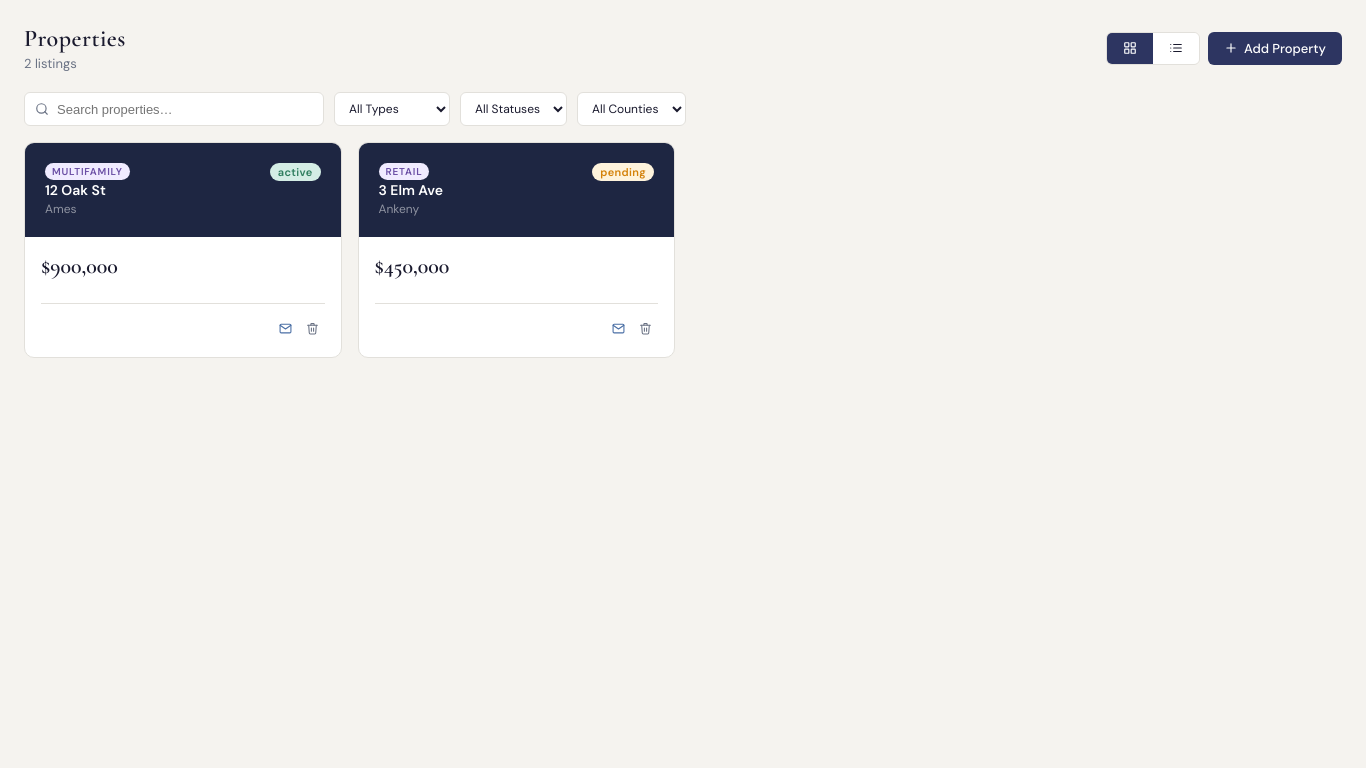
it: PropertiesPage › reports a failed delete instead of claiming success, and keeps the row
This screenshot has width=1366, height=768.
Click the button named "Delete 12 Oak St": (312, 328) [300, 316, 324, 341]
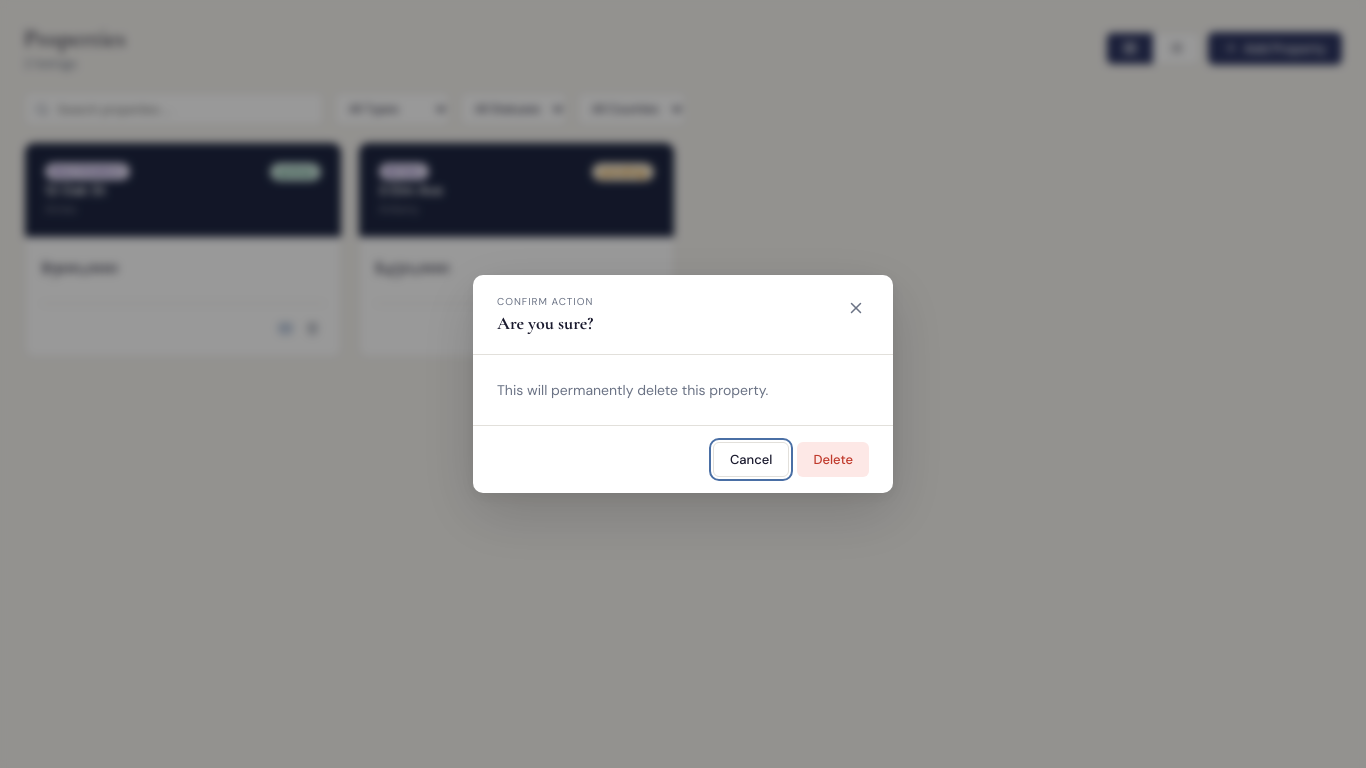
Expected: the dialog is shown, [473, 275, 893, 493]
Click the button "Delete": (833, 460) [797, 442, 869, 477]
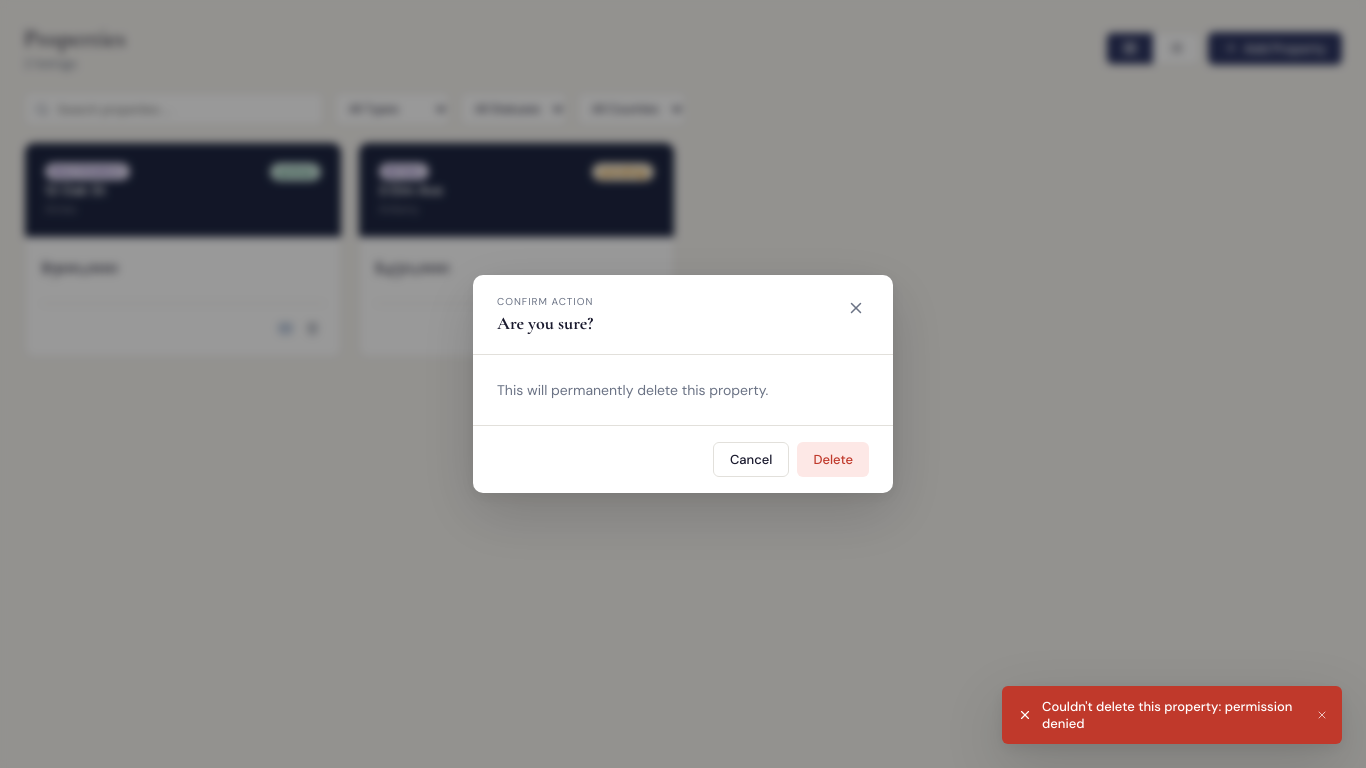
Expected: the button "12 Oak St" is shown, [45, 181, 106, 199]
Expected: the message reads "Couldn't delete this property: permission denied", [1042, 698, 1292, 732]
